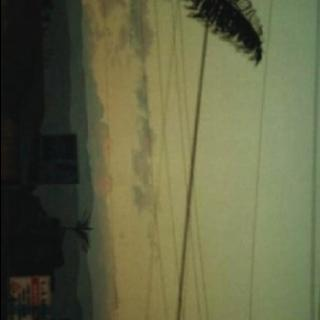Stratocumulus: (78, 0, 156, 320)
